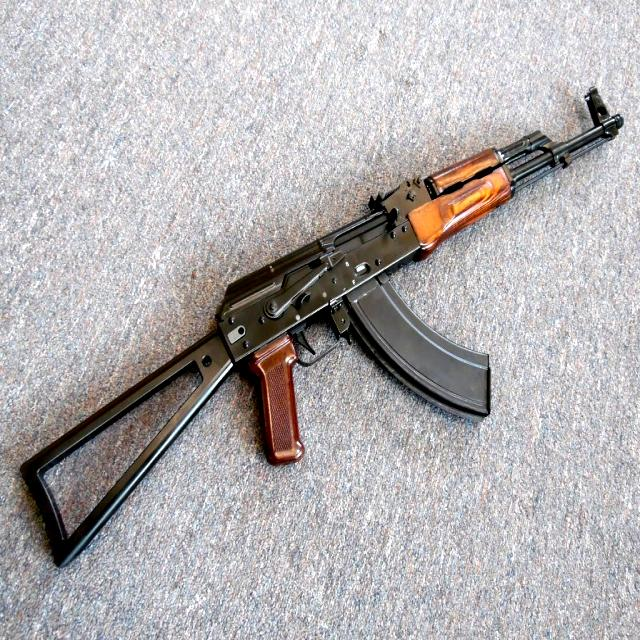ak: (22, 83, 625, 572)
